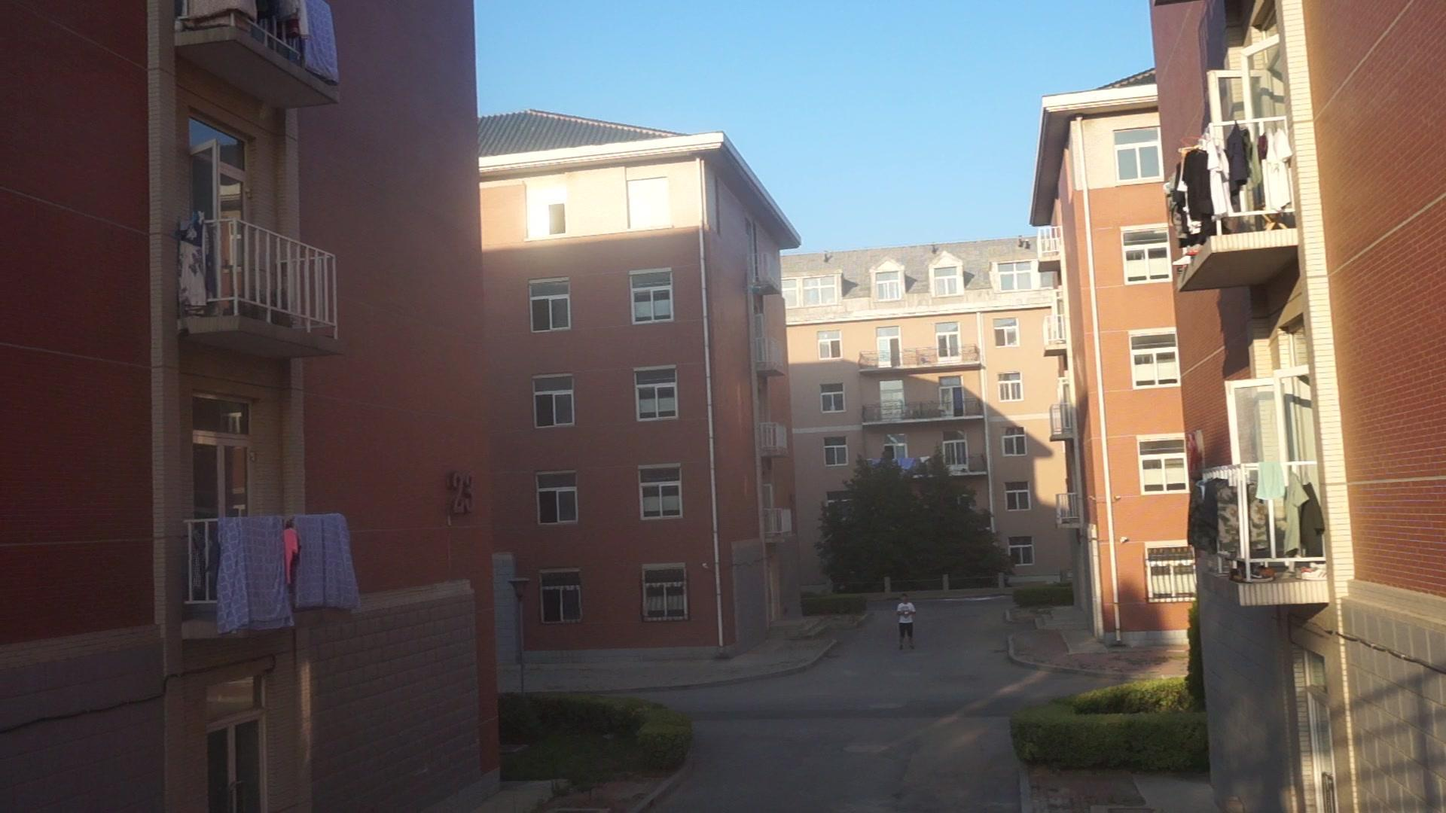UAV: (744, 285, 762, 297)
